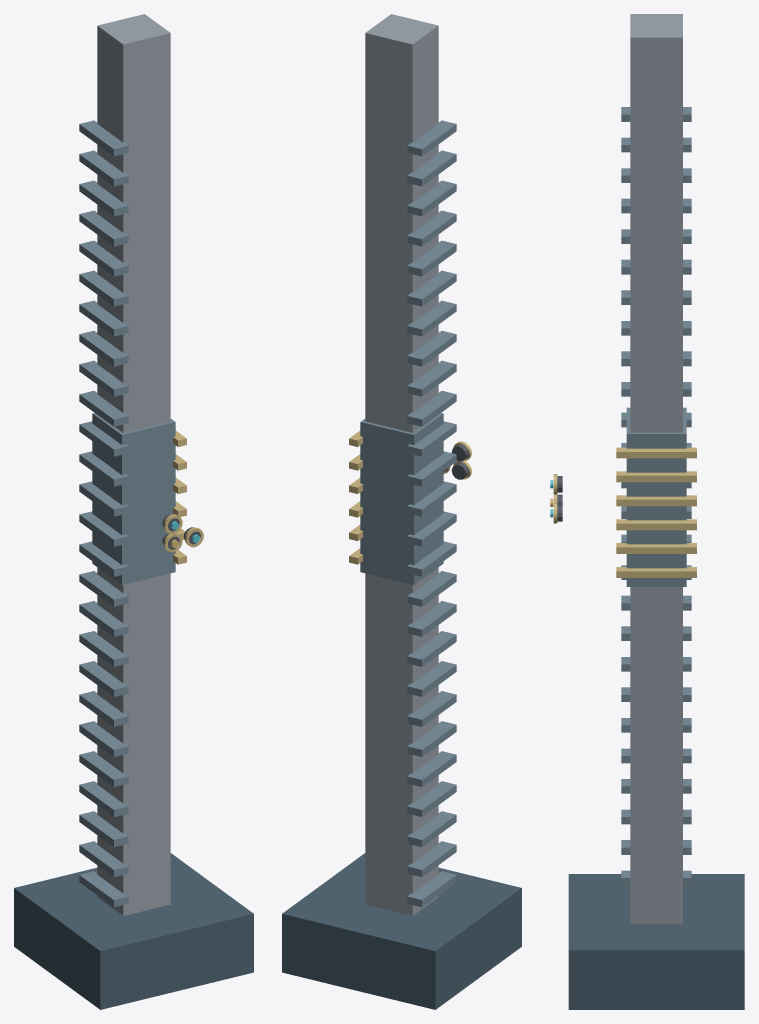
Rendered from 34_L82_MotorizedAntennaHeightMast.glb.
The picture shows the model from 3 angles, left to right: view 1: azimuth 30°, elevation 25°; view 2: azimuth 150°, elevation 25°; view 3: azimuth 270°, elevation 25°; orthographic projection.
Visible parts, largest first — view 1: MotorizedAntennaHeightMast_Node_0000, MotorizedAntennaHeightMast_Node_0027, MotorizedAntennaHeightMast_Node_0028, MotorizedAntennaHeightMast_Node_0001, MotorizedAntennaHeightMast_Node_0024, MotorizedAntennaHeightMast_Node_0009, MotorizedAntennaHeightMast_Node_0025, MotorizedAntennaHeightMast_Node_0026, MotorizedAntennaHeightMast_Node_0002, MotorizedAntennaHeightMast_Node_0018, MotorizedAntennaHeightMast_Node_0022, MotorizedAntennaHeightMast_Node_0023 (+17 smaller); view 2: MotorizedAntennaHeightMast_Node_0000, MotorizedAntennaHeightMast_Node_0027, MotorizedAntennaHeightMast_Node_0028, MotorizedAntennaHeightMast_Node_0001, MotorizedAntennaHeightMast_Node_0024, MotorizedAntennaHeightMast_Node_0009, MotorizedAntennaHeightMast_Node_0025, MotorizedAntennaHeightMast_Node_0026, MotorizedAntennaHeightMast_Node_0002, MotorizedAntennaHeightMast_Node_0018, MotorizedAntennaHeightMast_Node_0022, MotorizedAntennaHeightMast_Node_0023 (+17 smaller); view 3: MotorizedAntennaHeightMast_Node_0000, MotorizedAntennaHeightMast_Node_0027, MotorizedAntennaHeightMast_Node_0028, MotorizedAntennaHeightMast_Node_0031, MotorizedAntennaHeightMast_Node_0032, MotorizedAntennaHeightMast_Node_0033, MotorizedAntennaHeightMast_Node_0034, MotorizedAntennaHeightMast_Node_0029, MotorizedAntennaHeightMast_Node_0030.
Boxes of the visible parts, x1,y1,x2,y2 form: MotorizedAntennaHeightMast_Node_0000: (97,14,170,915); MotorizedAntennaHeightMast_Node_0027: (14,853,253,1009); MotorizedAntennaHeightMast_Node_0028: (92,413,175,584); MotorizedAntennaHeightMast_Node_0001: (79,871,128,907); MotorizedAntennaHeightMast_Node_0024: (79,180,128,216); MotorizedAntennaHeightMast_Node_0009: (79,631,128,666); MotorizedAntennaHeightMast_Node_0025: (79,150,128,186); MotorizedAntennaHeightMast_Node_0026: (79,120,128,156); MotorizedAntennaHeightMast_Node_0002: (79,841,128,876); MotorizedAntennaHeightMast_Node_0018: (79,360,128,396); MotorizedAntennaHeightMast_Node_0022: (79,240,128,276); MotorizedAntennaHeightMast_Node_0023: (79,210,128,246); MotorizedAntennaHeightMast_Node_0000: (365,14,438,915); MotorizedAntennaHeightMast_Node_0027: (282,853,521,1009); MotorizedAntennaHeightMast_Node_0028: (360,413,443,584); MotorizedAntennaHeightMast_Node_0001: (407,871,456,907); MotorizedAntennaHeightMast_Node_0024: (407,180,456,216); MotorizedAntennaHeightMast_Node_0009: (407,631,456,666); MotorizedAntennaHeightMast_Node_0025: (407,150,456,186); MotorizedAntennaHeightMast_Node_0026: (407,120,456,156); MotorizedAntennaHeightMast_Node_0002: (407,841,456,876); MotorizedAntennaHeightMast_Node_0018: (407,360,456,396); MotorizedAntennaHeightMast_Node_0022: (407,240,456,276); MotorizedAntennaHeightMast_Node_0023: (407,210,456,246); MotorizedAntennaHeightMast_Node_0000: (630,14,682,923); MotorizedAntennaHeightMast_Node_0027: (568,874,744,1009); MotorizedAntennaHeightMast_Node_0028: (626,407,686,586); MotorizedAntennaHeightMast_Node_0031: (616,519,696,530); MotorizedAntennaHeightMast_Node_0032: (616,495,696,506); MotorizedAntennaHeightMast_Node_0033: (616,471,696,482); MotorizedAntennaHeightMast_Node_0034: (616,447,696,458); MotorizedAntennaHeightMast_Node_0029: (616,567,696,577); MotorizedAntennaHeightMast_Node_0030: (616,543,696,553).
Size of the model in its own units: 1.23 by 7.13 by 1.32.
